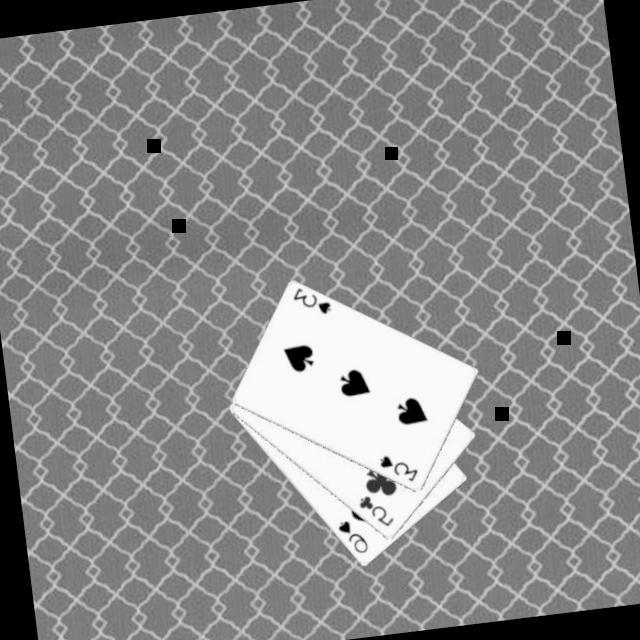3S: (374, 450, 420, 490), (286, 282, 332, 322)
5C: (352, 490, 396, 534)
9S: (331, 516, 370, 561)
